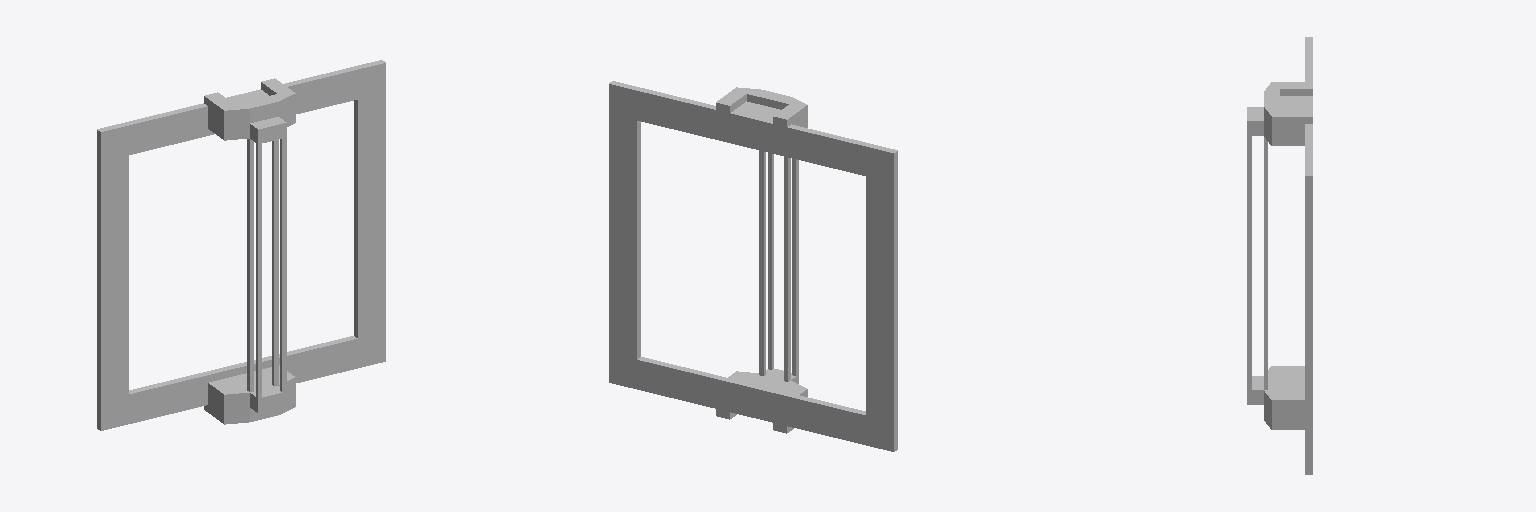
File: Mine.obj
The picture shows the model from 3 angles: view 1: azimuth 30°, elevation 25°; view 2: azimuth 150°, elevation 25°; view 3: azimuth 270°, elevation 25°; orthographic projection.
Parts seen in each view (by area): view 1: object_1, object_4, object_5, object_3, object_2; view 2: object_1, object_3, object_5, object_2, object_4; view 3: object_1, object_4, object_3.
Boxes of the visible parts, <box> form: object_1: <box>97,60,385,430</box>; object_4: <box>280,138,286,392</box>; object_5: <box>247,139,253,391</box>; object_3: <box>272,140,278,386</box>; object_2: <box>256,143,261,398</box>; object_1: <box>609,81,897,451</box>; object_3: <box>759,150,765,375</box>; object_5: <box>784,157,790,381</box>; object_2: <box>792,159,798,375</box>; object_4: <box>768,153,773,369</box>; object_1: <box>1247,37,1312,474</box>; object_4: <box>1247,136,1251,389</box>; object_3: <box>1264,137,1267,389</box>.
Bounding box in the file's own units: 2 × 2.1 × 0.4.